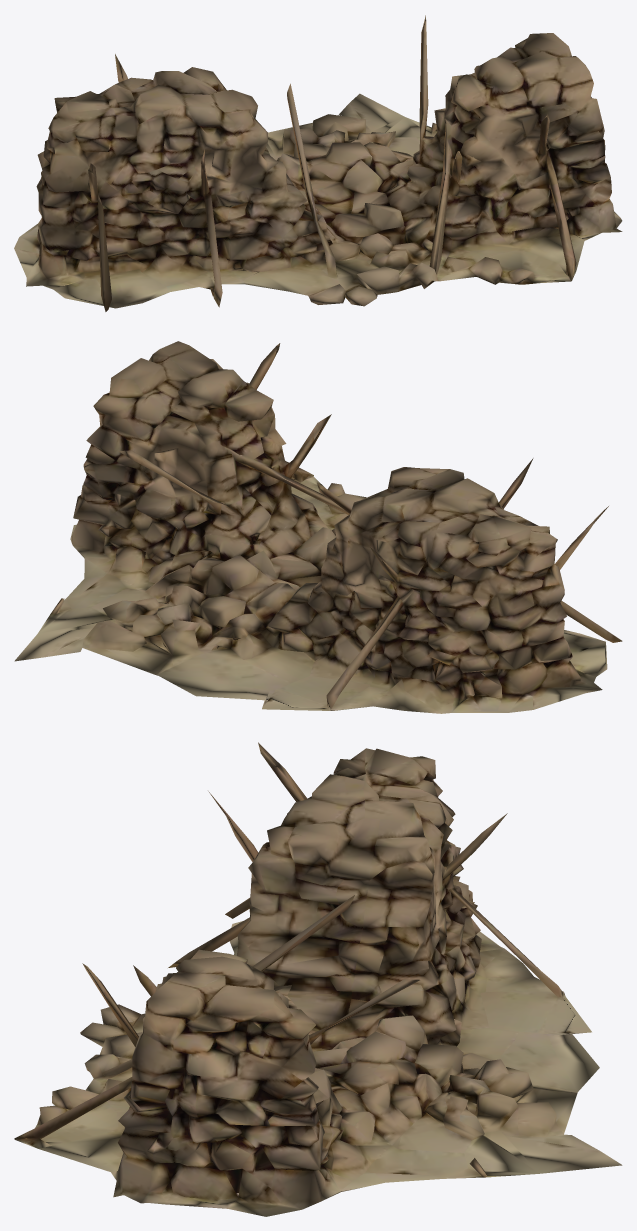
Rendered from devor_seksiya.glb.
3 renders of one model, top to bottom at view 1: azimuth 30°, elevation 25°; view 2: azimuth 150°, elevation 25°; view 3: azimuth 270°, elevation 25°, orthographic. The views are drawn at different scales.
Parts seen in each view (by area): view 1: tripo_node_120a61de-bc8e-4ac7-a418-8df40434568e; view 2: tripo_node_120a61de-bc8e-4ac7-a418-8df40434568e; view 3: tripo_node_120a61de-bc8e-4ac7-a418-8df40434568e.
Part boxes in pixels (bbox=[...]): tripo_node_120a61de-bc8e-4ac7-a418-8df40434568e: bbox=[14, 15, 622, 311]; tripo_node_120a61de-bc8e-4ac7-a418-8df40434568e: bbox=[14, 341, 622, 713]; tripo_node_120a61de-bc8e-4ac7-a418-8df40434568e: bbox=[14, 742, 622, 1216].
Bounding box in the file's own units: 0.978 × 0.2792 × 0.7868.
1 material, 1 textured.
